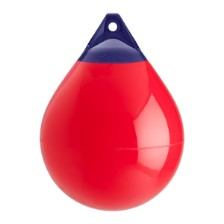buoy: (40, 14, 184, 211)
